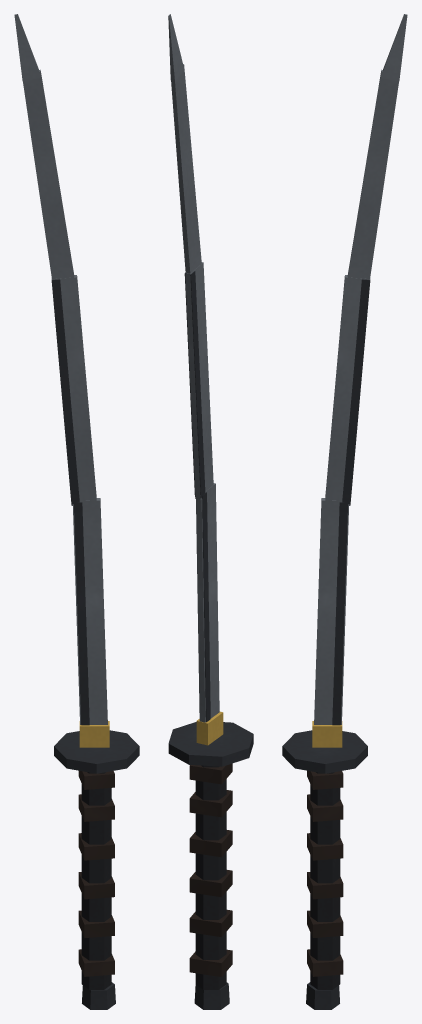
The model's file is weapon_katana.glb.
3 views of the same model, side by side, from view 1: azimuth 90°, elevation 25°; view 2: azimuth 150°, elevation 25°; view 3: azimuth 270°, elevation 25° (orthographic). The views are drawn at different scales.
Visible parts, largest first — view 1: Weapon_Katana; view 2: Weapon_Katana; view 3: Weapon_Katana.
Part boxes in pixels (x1,y1,x2,y2): Weapon_Katana: (14,14,139,1009); Weapon_Katana: (168,14,253,1009); Weapon_Katana: (282,14,407,1009).
Size of the model in its own units: 0.08 by 1.02 by 0.117.
5 materials, 5 textured.
